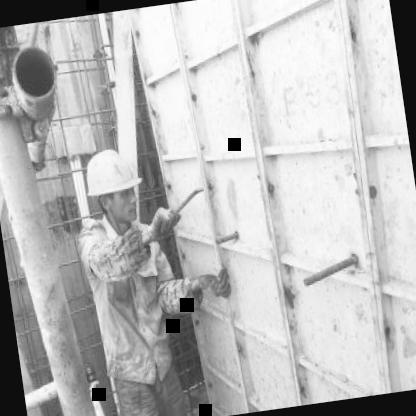helmet: (76, 139, 148, 232)
